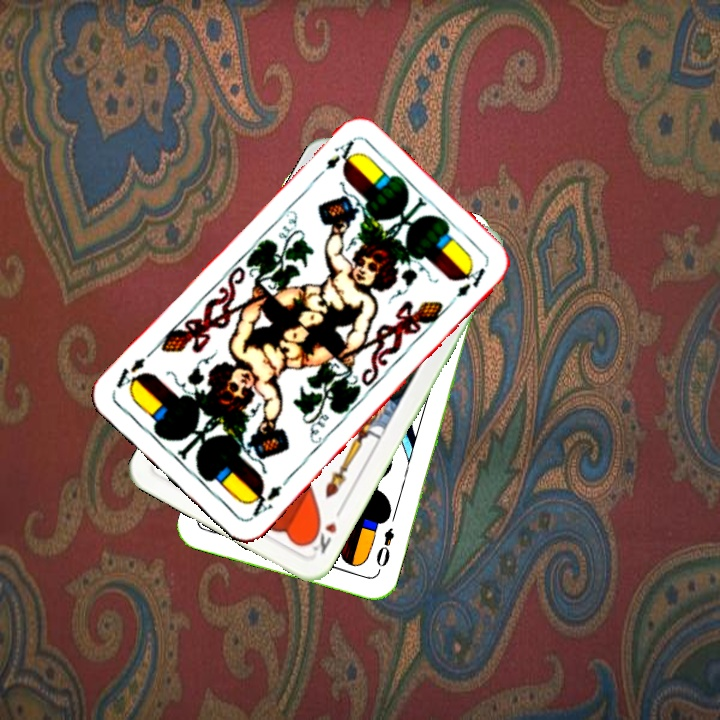EA: (244, 473, 292, 521), (321, 136, 357, 173)
EO: (372, 523, 397, 575)
HK: (303, 503, 346, 557)
